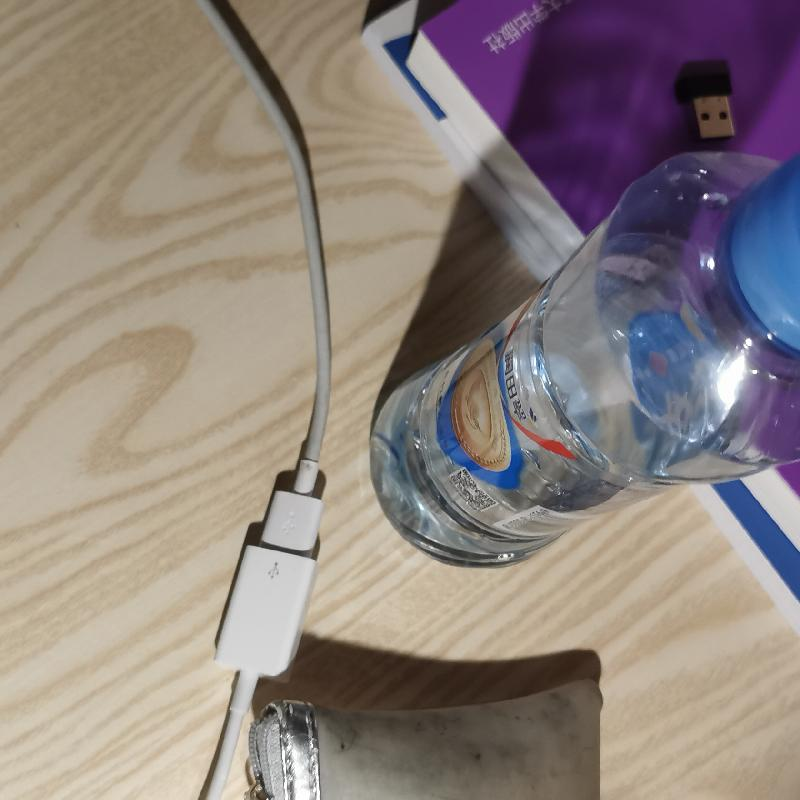bottles: (367, 149, 800, 583)
